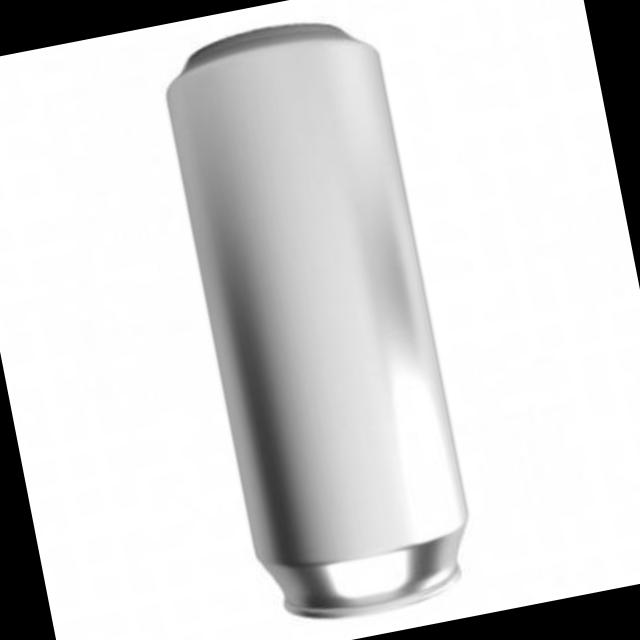metal: (166, 28, 465, 620)
